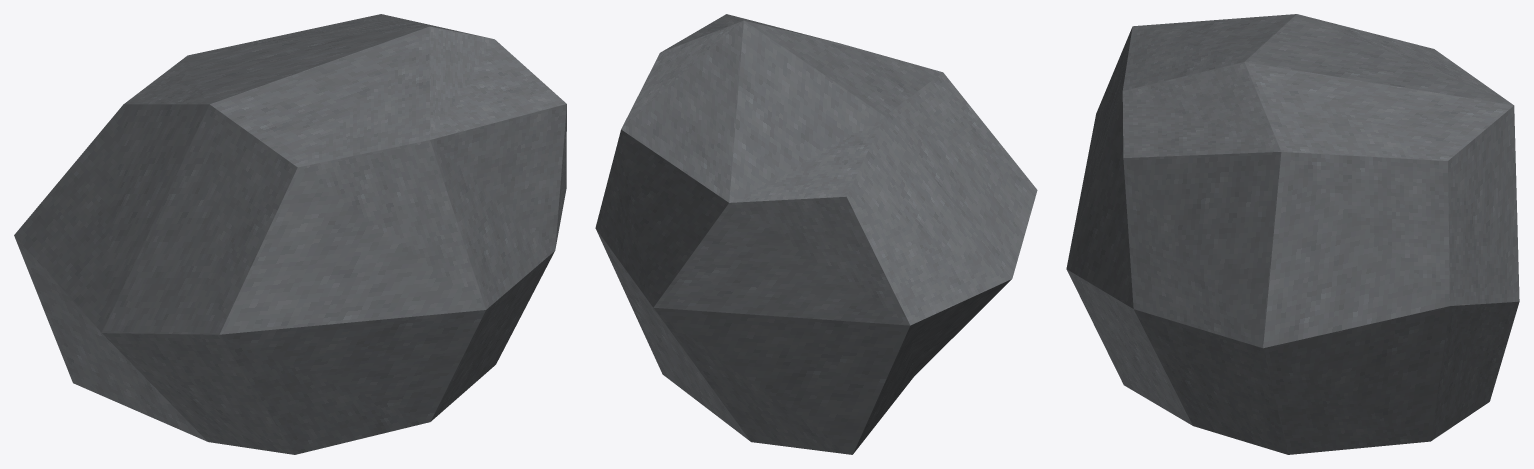
File: Rock1.glb
3 views of the same model, side by side, from view 1: azimuth 30°, elevation 25°; view 2: azimuth 150°, elevation 25°; view 3: azimuth 270°, elevation 25° (orthographic). The views are drawn at different scales.
Parts seen in each view (by area): view 1: Rock_10; view 2: Rock_10; view 3: Rock_10.
Part boxes in pixels (x1,y1,x2,y2): Rock_10: (14, 14, 566, 454); Rock_10: (595, 14, 1037, 454); Rock_10: (1066, 14, 1519, 454).
Size of the model in its own units: 3.46 by 2.73 by 2.78.
Materials: 1 (1 with a texture image).
